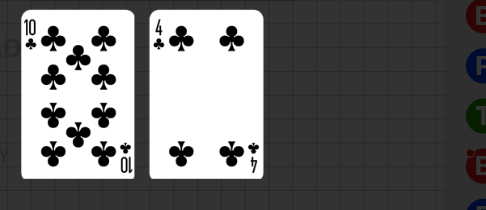10C: (118, 140, 133, 175)
4C: (246, 140, 260, 175)
